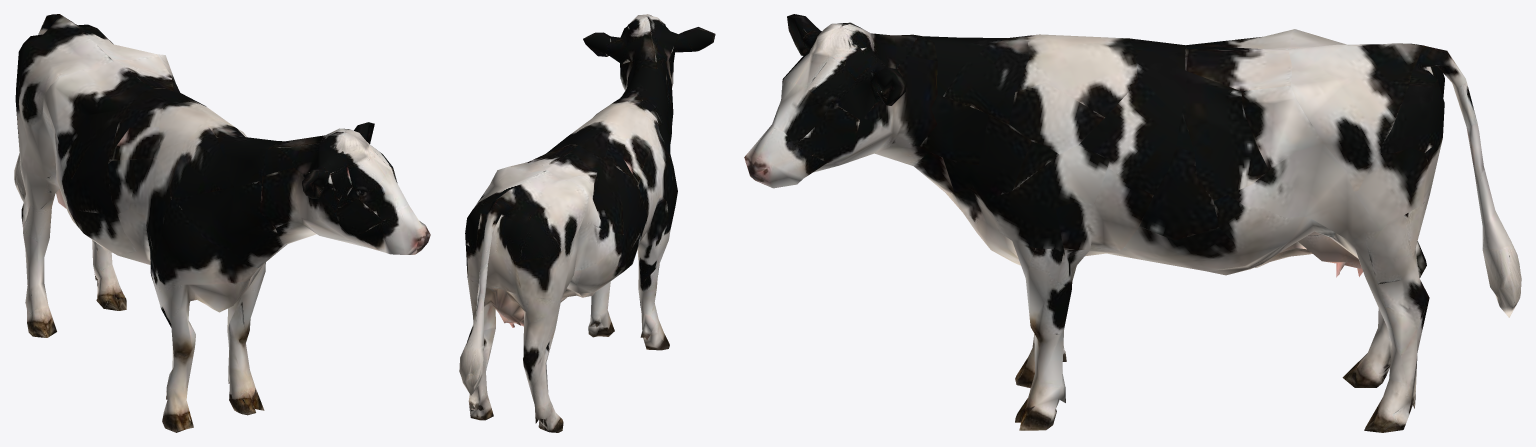
Rendered from cow.glb.
The picture shows the model from 3 angles, left to right: view 1: azimuth 30°, elevation 25°; view 2: azimuth 150°, elevation 25°; view 3: azimuth 270°, elevation 25°; orthographic projection. The views are drawn at different scales.
Parts seen in each view (by area): view 1: cow; view 2: cow; view 3: cow.
Boxes of the visible parts, x1=… form: cow: x1=14, y1=14, x2=430, y2=432; cow: x1=459, y1=14, x2=715, y2=432; cow: x1=744, y1=14, x2=1521, y2=432.
Size of the model in its own units: 0.7931 by 1.41 by 2.4.
1 material, 1 textured.
